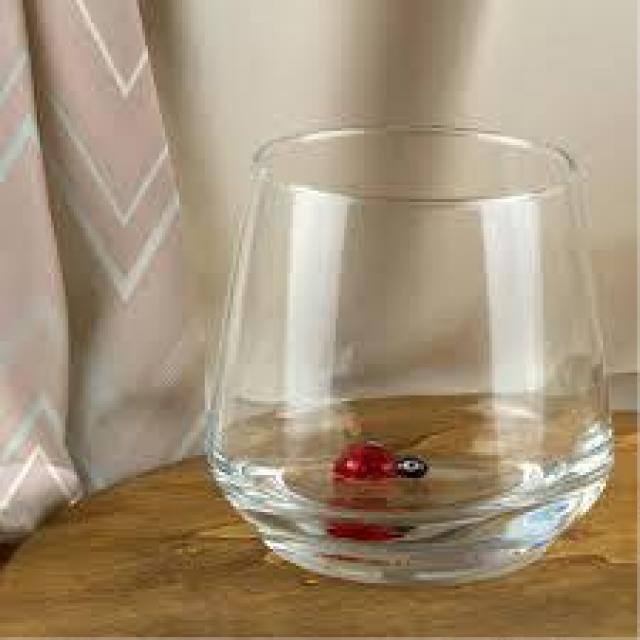non-organic waste: (205, 125, 617, 583)
